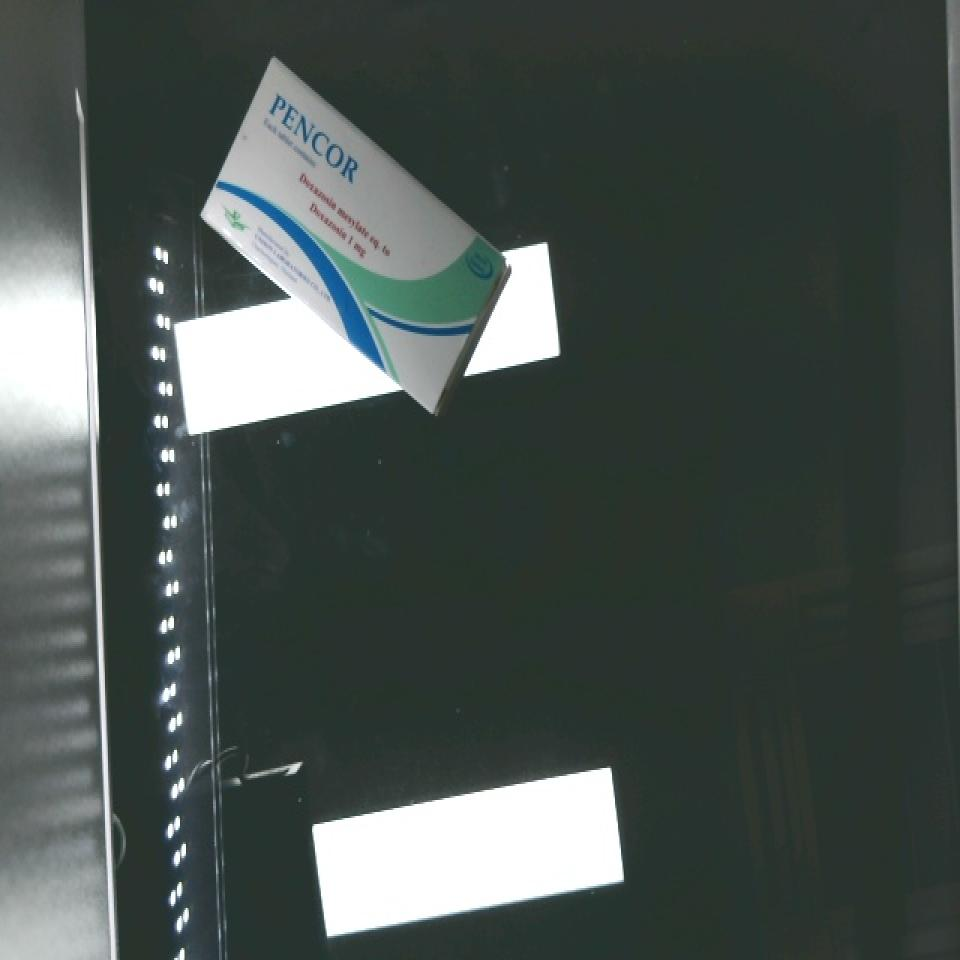medicine_box: (160, 53, 545, 418)
medicine_label_obb: (236, 63, 389, 209)
